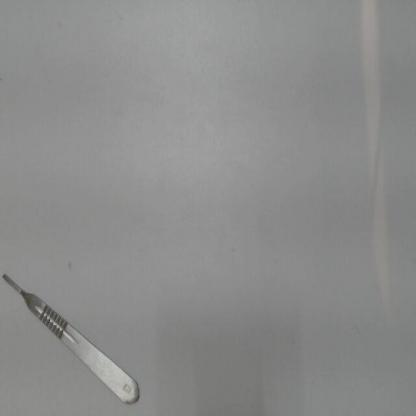No.3 BP Handle: (0, 261, 149, 410)
